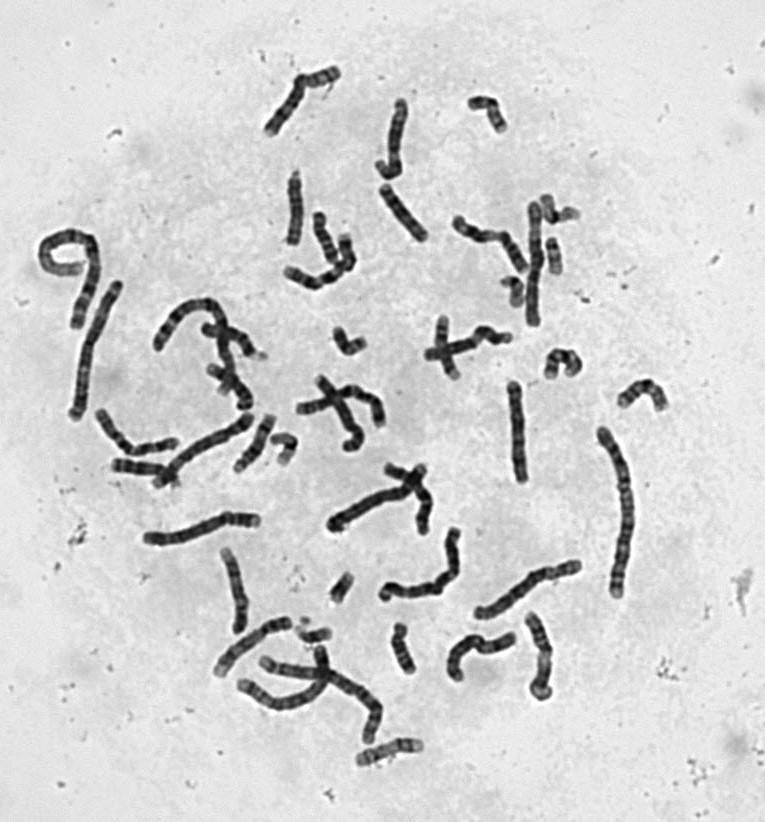chromosomes: (256, 653, 390, 752), (150, 292, 238, 404), (62, 275, 125, 429), (29, 215, 104, 335), (591, 422, 639, 601), (147, 412, 258, 489), (250, 61, 346, 149), (374, 522, 470, 609), (322, 464, 432, 537), (468, 555, 584, 624), (233, 641, 334, 717), (310, 365, 374, 459), (210, 614, 296, 682), (274, 228, 358, 295), (290, 380, 391, 435), (132, 510, 263, 552), (449, 210, 533, 275), (89, 400, 183, 456), (441, 628, 520, 690), (406, 324, 517, 367), (518, 600, 564, 703), (377, 181, 440, 250), (372, 91, 419, 181), (382, 464, 438, 539), (347, 727, 430, 771), (216, 544, 255, 637), (197, 318, 273, 365), (104, 455, 191, 496), (232, 412, 283, 480), (505, 378, 532, 493), (203, 360, 261, 413), (524, 197, 545, 335), (464, 87, 513, 142), (431, 312, 466, 388), (614, 376, 674, 416), (386, 619, 423, 682), (281, 166, 308, 250), (308, 207, 340, 270), (539, 344, 586, 385), (538, 187, 586, 227), (296, 612, 339, 650), (328, 322, 370, 359), (496, 272, 531, 316), (269, 431, 305, 471), (323, 565, 359, 605), (543, 233, 572, 281)
